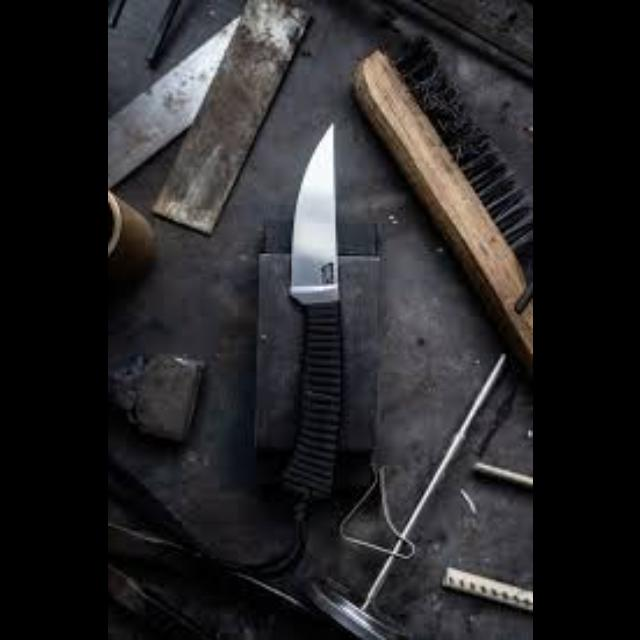Knife: (280, 122, 342, 512), (107, 11, 239, 192)
